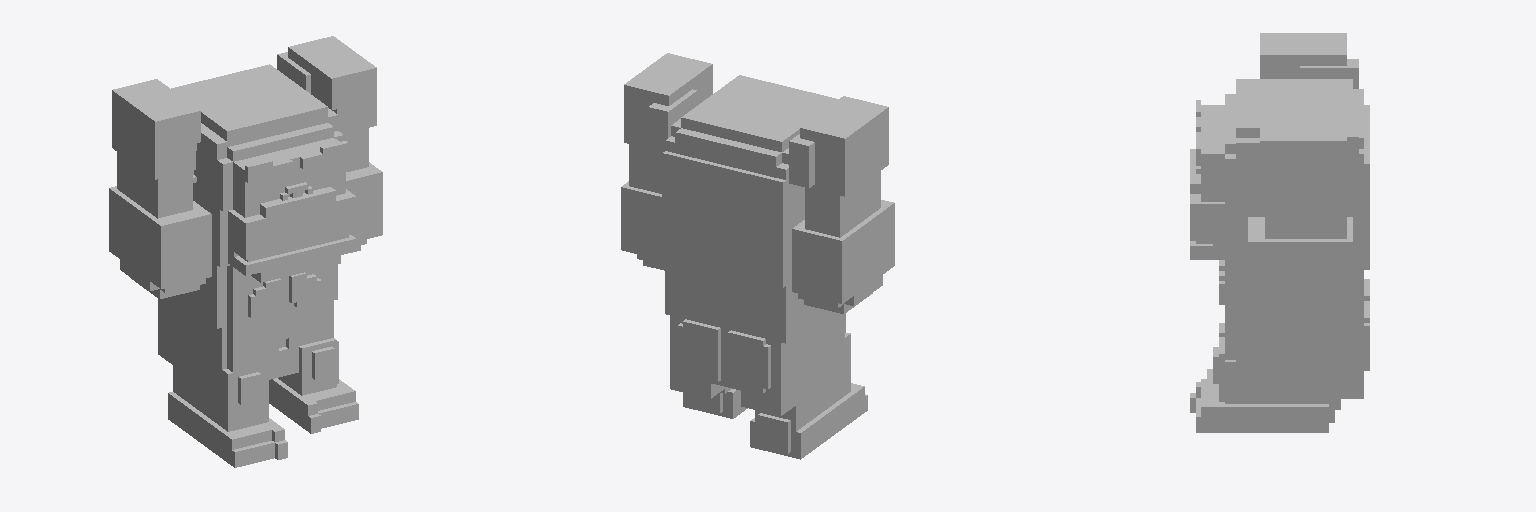
Rendered from Monkey-holdR.obj.
The picture shows the model from 3 angles: view 1: azimuth 30°, elevation 25°; view 2: azimuth 150°, elevation 25°; view 3: azimuth 270°, elevation 25°; orthographic projection.
Bounding box in the file's own units: 44 × 64 × 31.